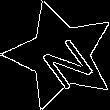N_NW: (28, 23, 93, 87)
